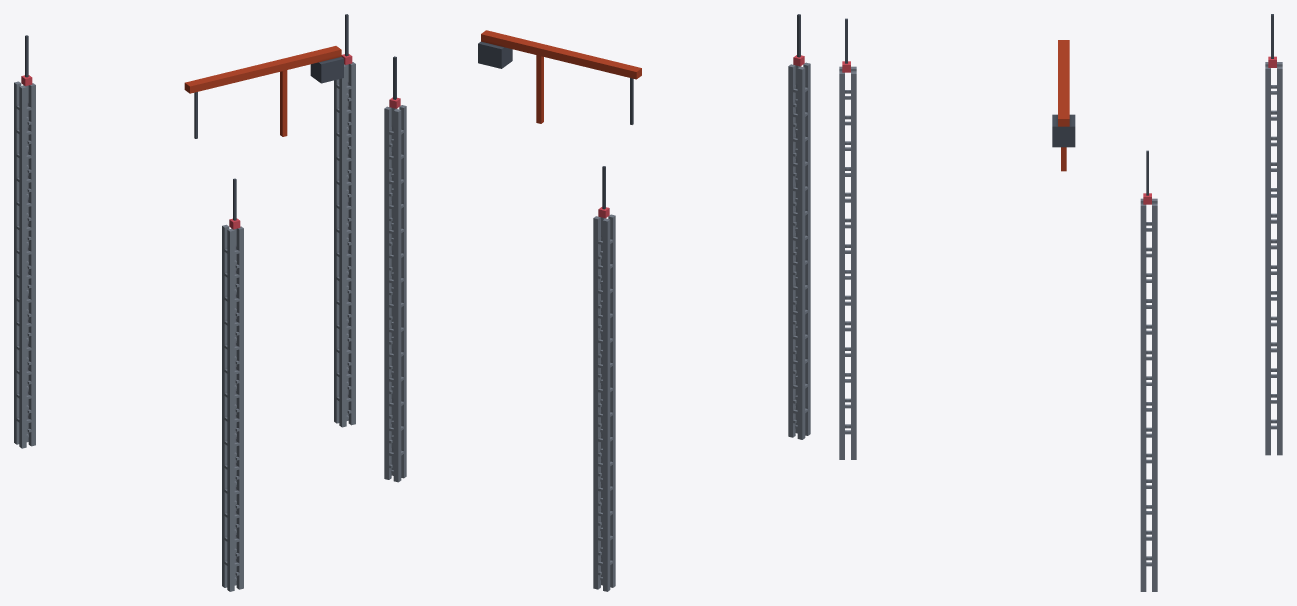
File: pad_e3_l3.glb
3 views of the same model, side by side, from view 1: azimuth 30°, elevation 25°; view 2: azimuth 150°, elevation 25°; view 3: azimuth 270°, elevation 25° (orthographic). The views are drawn at different scales.
Visible parts, largest first — view 1: Base; view 2: Base; view 3: Base.
Boxes of the visible parts, x1,y1,x2,y2 form: Base: (14,14,355,591); Base: (384,14,810,591); Base: (839,14,1282,591).
Size of the model in its own units: 12 by 17.3 by 15.6.
